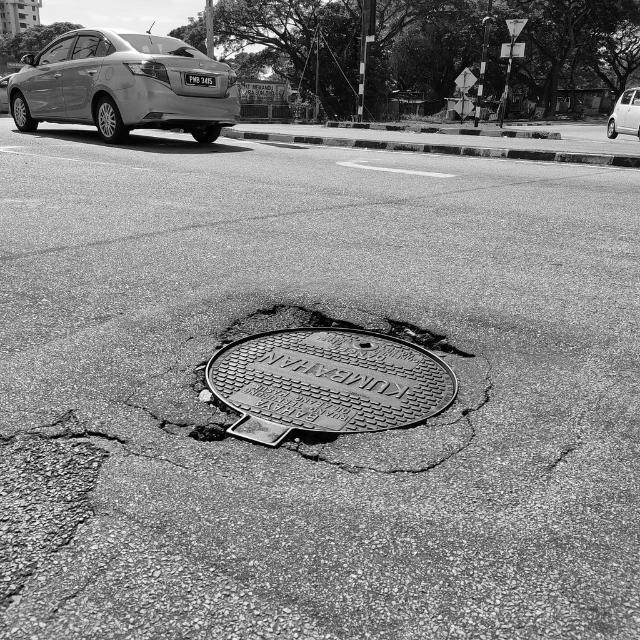Pothole: (184, 298, 482, 450), (0, 418, 130, 610)
